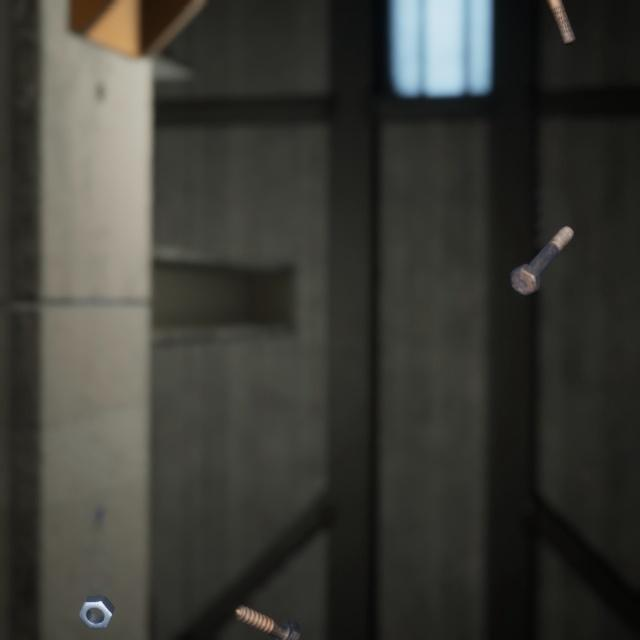bolt: (505, 206, 578, 284), (231, 576, 305, 629), (543, 0, 580, 43)
nut: (73, 567, 119, 610)
